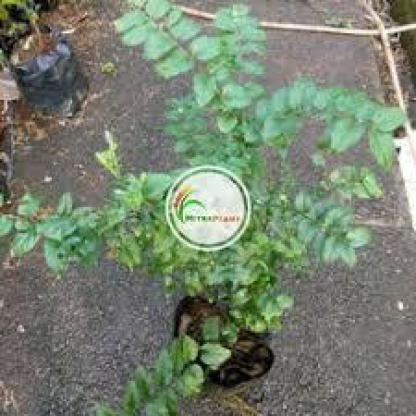Kenanga: (159, 46, 298, 233)
